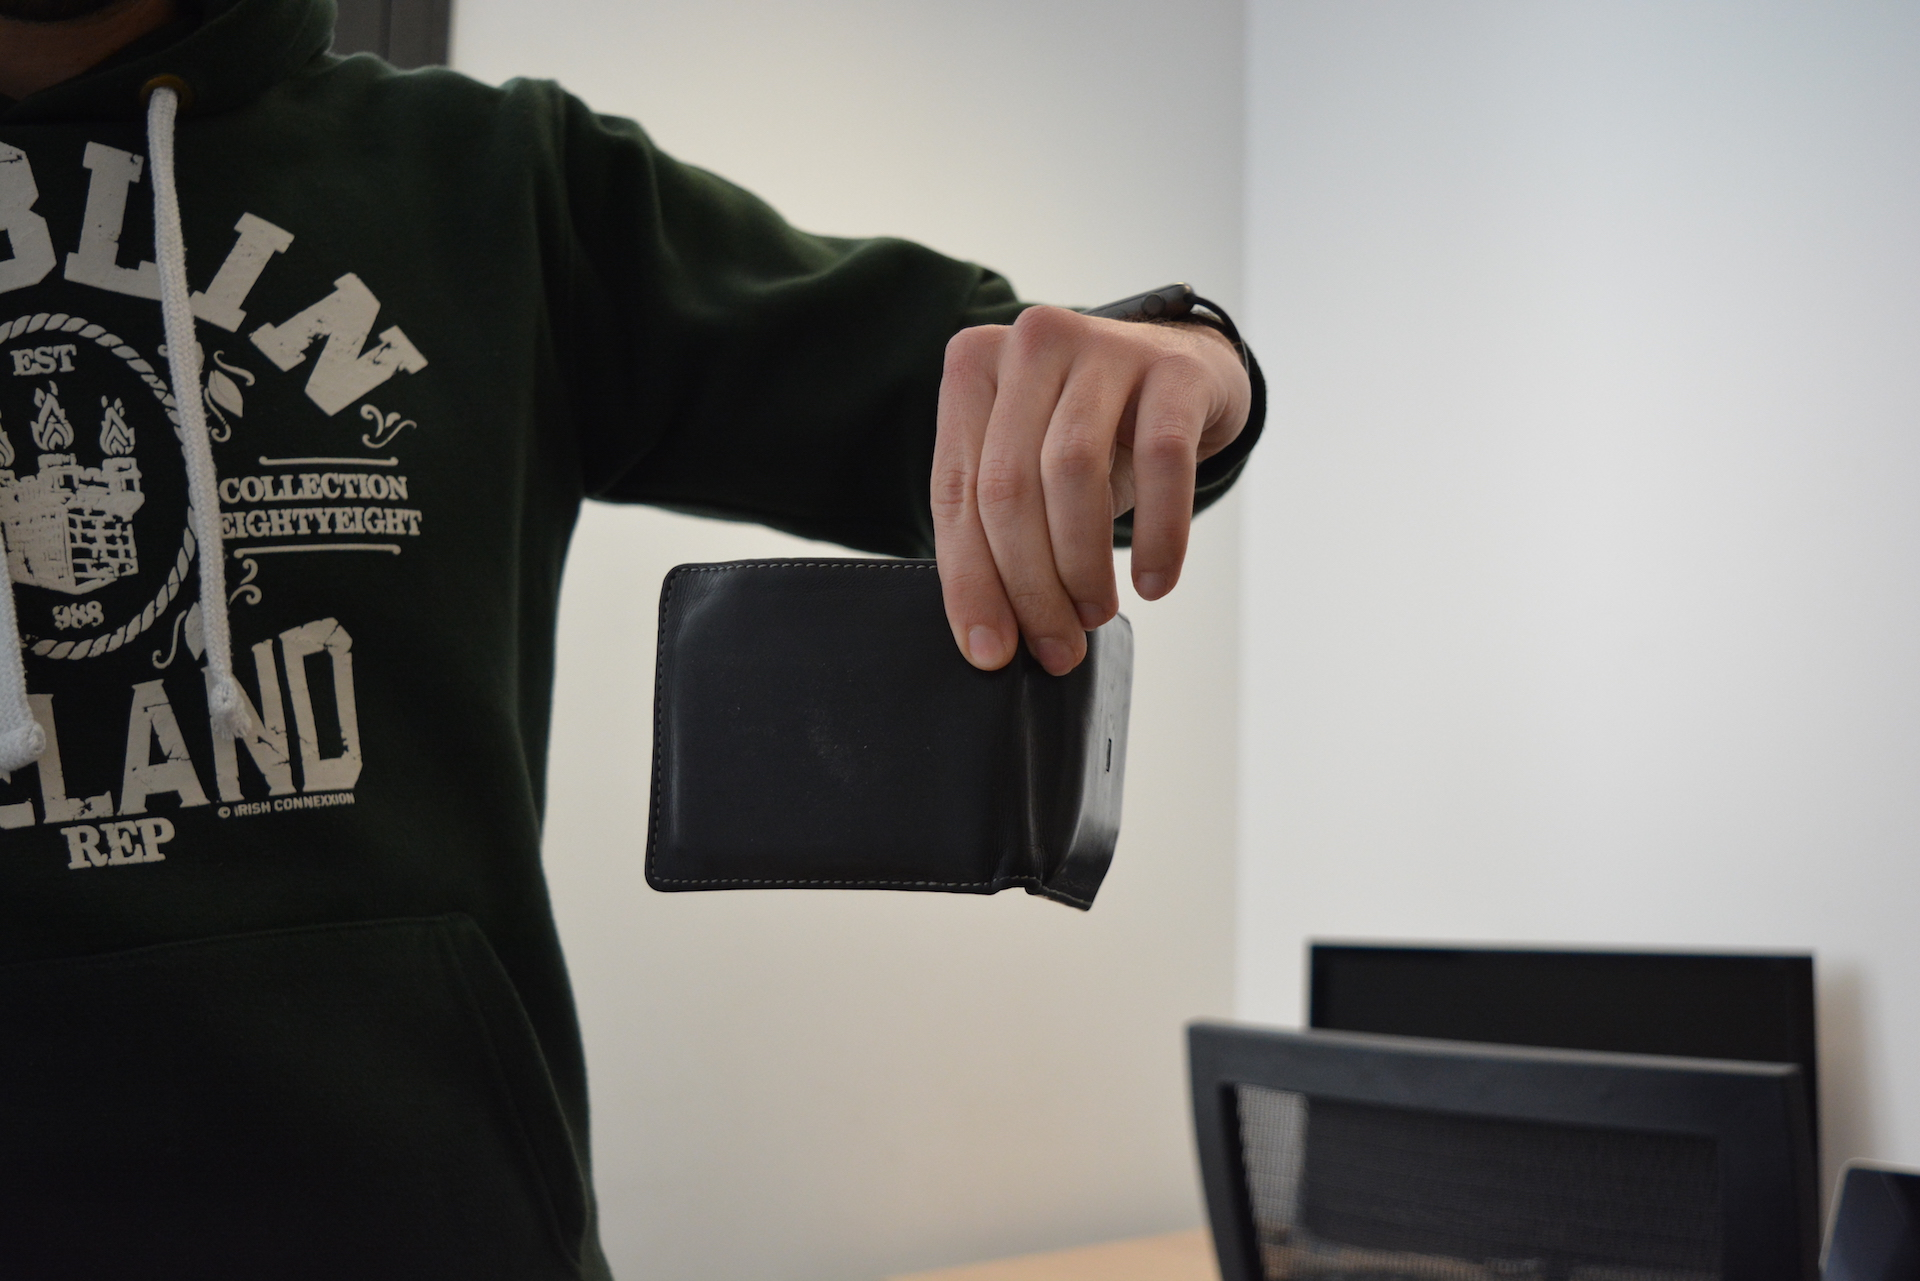monedero: (642, 555, 1139, 916)
